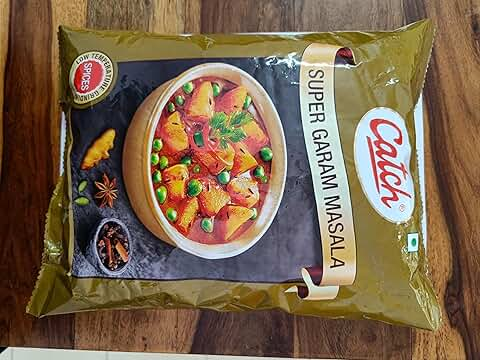Garamasala: (50, 25, 433, 330)
